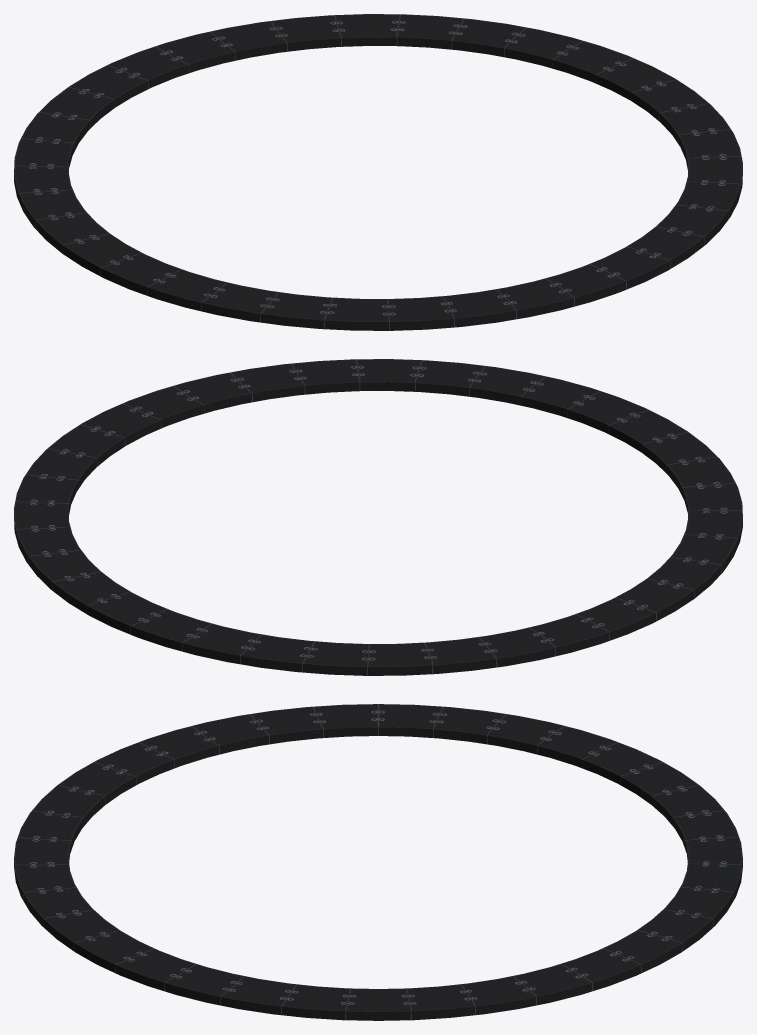
The model's file is Separator.fbx.
3 views of the same model, one above another, from view 1: azimuth 30°, elevation 25°; view 2: azimuth 150°, elevation 25°; view 3: azimuth 270°, elevation 25° (orthographic).
Visible parts, largest first — view 1: Separator; view 2: Separator; view 3: Separator.
Boxes of the visible parts, bbox=[...] form: Separator: bbox=[14, 14, 742, 330]; Separator: bbox=[14, 359, 742, 675]; Separator: bbox=[14, 704, 742, 1020].
Bounding box in the file's own units: 300 × 4 × 300.
